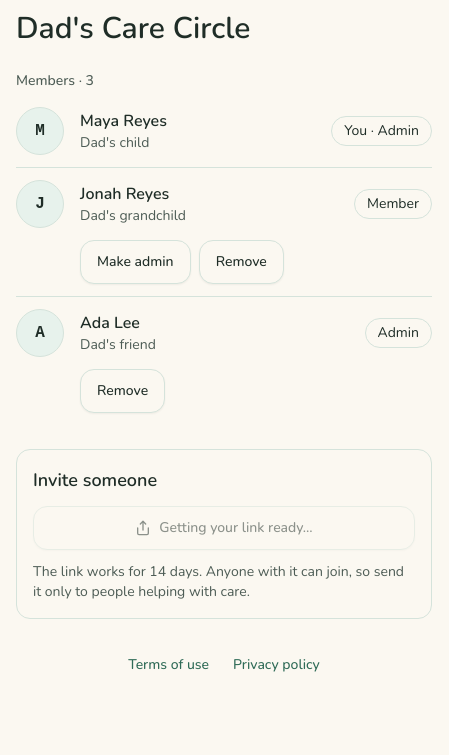
Keep closes the question without removing
Click the button with aria-label "Remove Jonah" at (241, 262), box [199, 240, 284, 284]
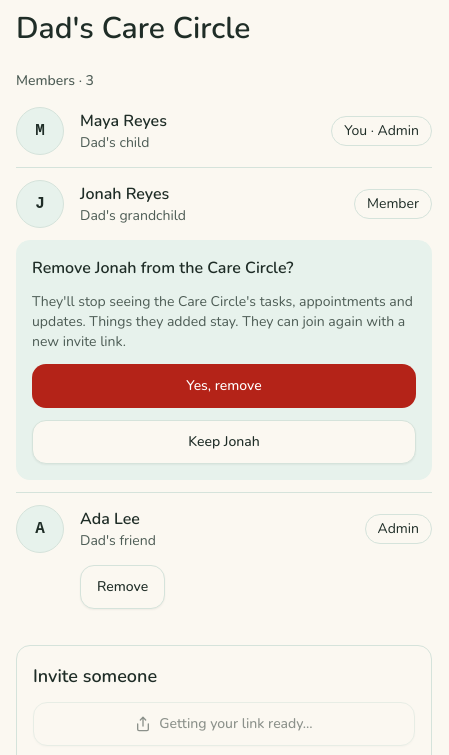
Click the button "Keep Jonah" at (224, 442), box [32, 420, 416, 464]
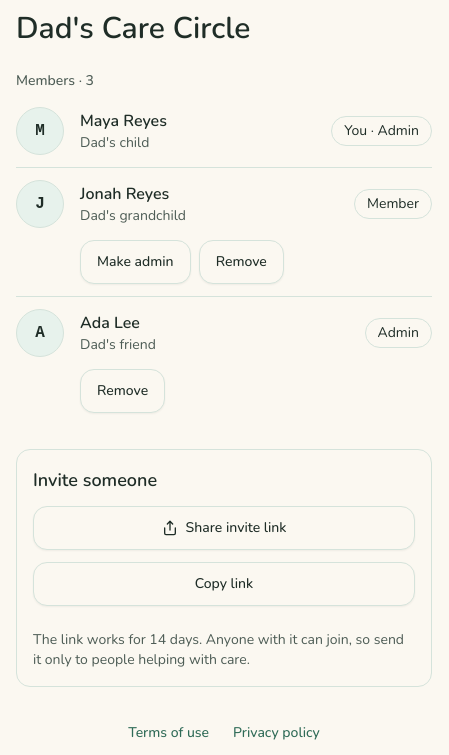
Result: the text "Remove Jonah from the Care Circle?" is gone
